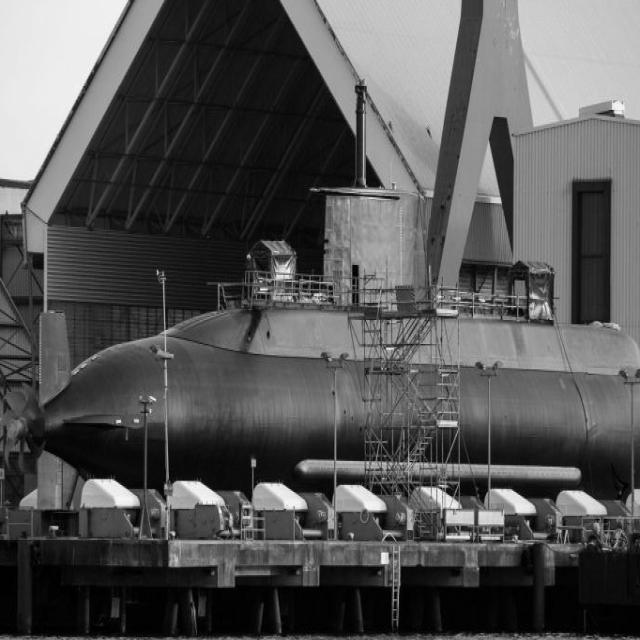submarine: (1, 187, 640, 494)
